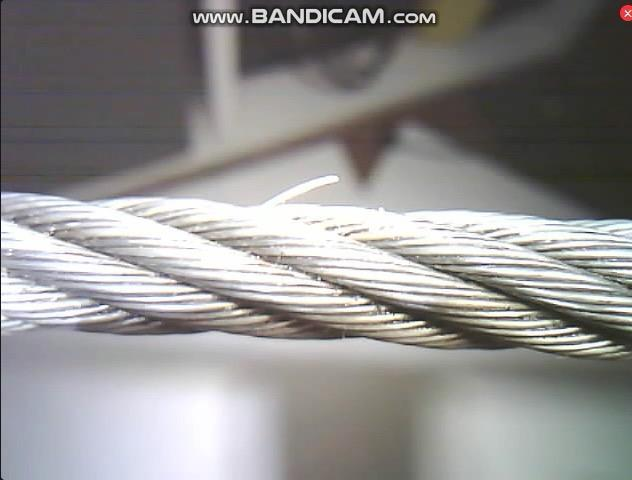break: (265, 163, 351, 228)
